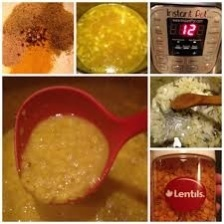dal: (78, 0, 147, 74)
